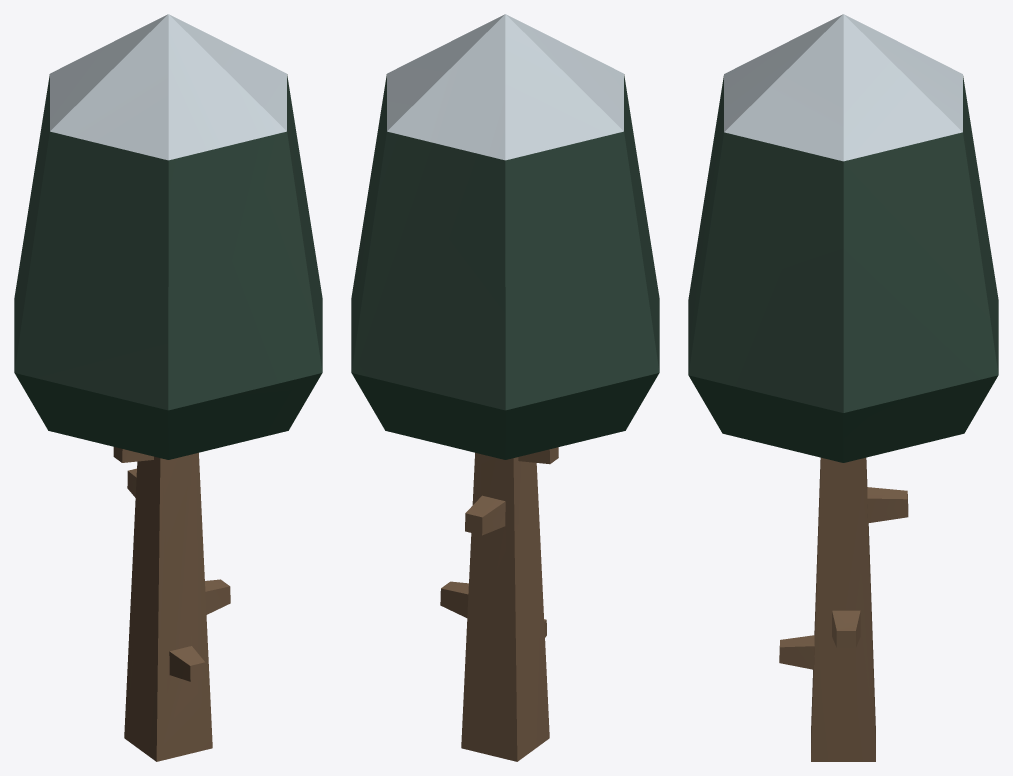
File: tree_default.glb
3 views of the same model, side by side, from view 1: azimuth 30°, elevation 25°; view 2: azimuth 150°, elevation 25°; view 3: azimuth 270°, elevation 25° (orthographic).
Parts seen in each view (by area): view 1: tree_default; view 2: tree_default; view 3: tree_default.
Part boxes in pixels (x1,y1,x2,y2): tree_default: [14, 14, 322, 761]; tree_default: [351, 14, 659, 761]; tree_default: [688, 14, 998, 761].
Bounding box in the file's own units: 0.755 × 1.71 × 0.6538.
